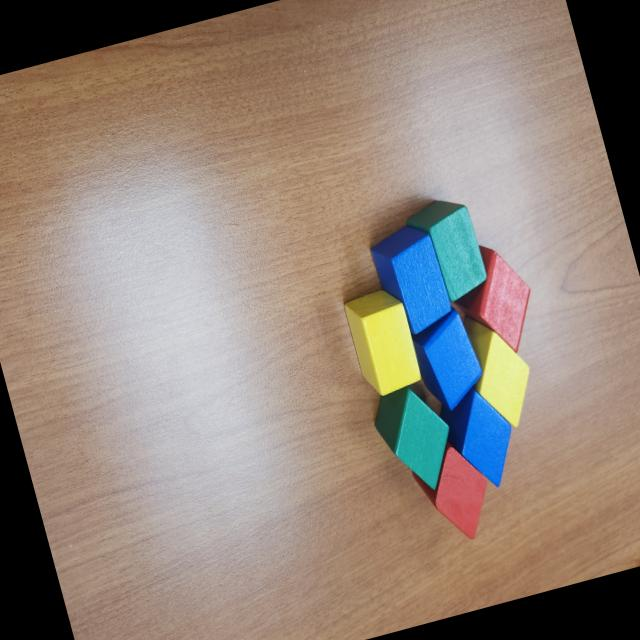blue: (433, 378, 526, 498), (366, 220, 456, 340), (406, 301, 490, 416)
green: (366, 377, 464, 501), (401, 192, 492, 311)
red: (440, 233, 546, 365), (406, 432, 500, 550)
yellow: (454, 303, 544, 437), (342, 284, 424, 398)
